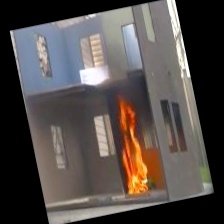fire: (102, 88, 166, 202)
